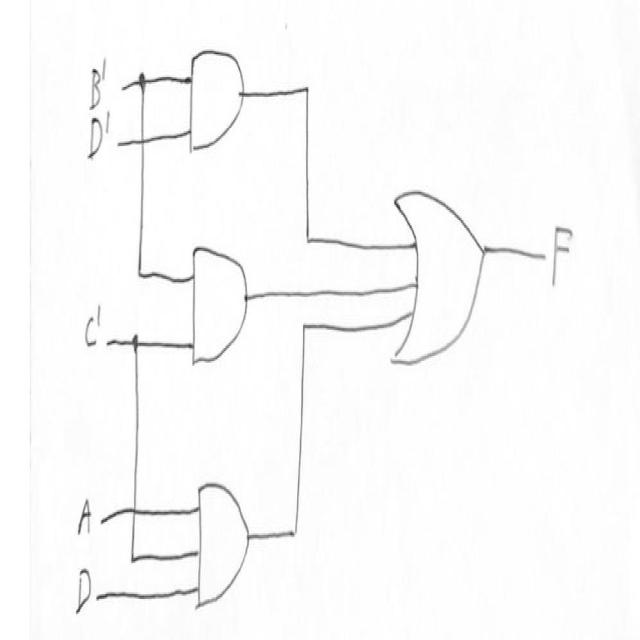AND: (188, 218, 258, 391), (189, 448, 253, 617), (184, 36, 250, 177)
OR: (391, 164, 492, 394)
